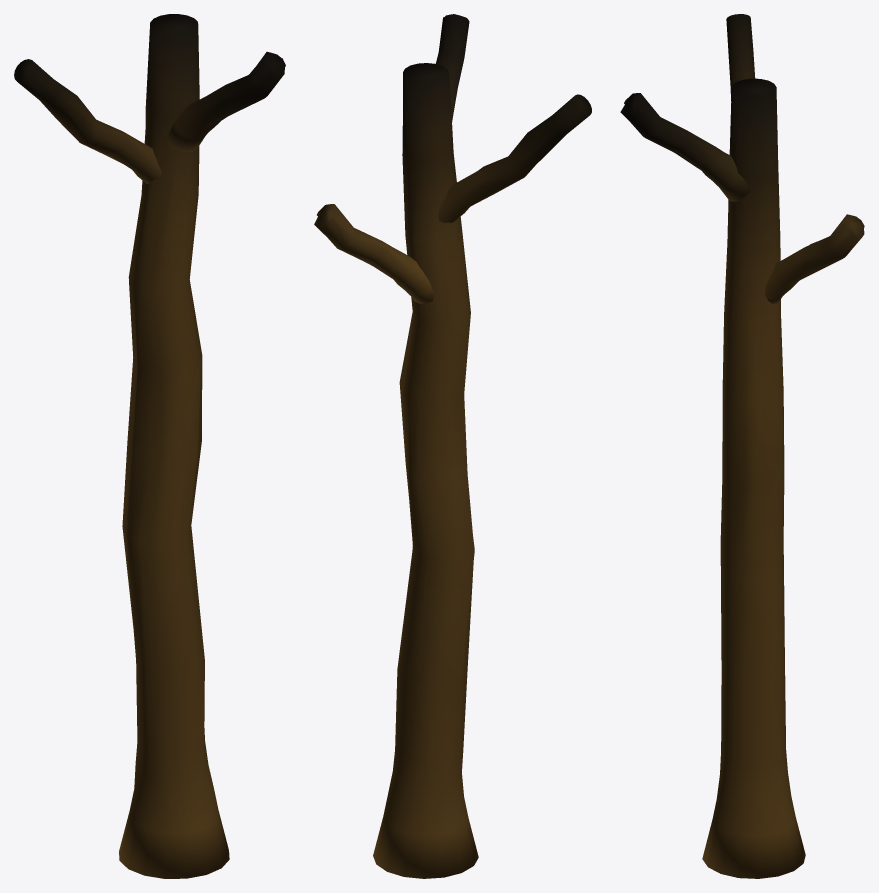
Rendered from pohon gosong_3.fbx.
The picture shows the model from 3 angles, left to right: view 1: azimuth 30°, elevation 25°; view 2: azimuth 150°, elevation 25°; view 3: azimuth 270°, elevation 25°; orthographic projection. The views are drawn at different scales.
Visible parts, largest first — view 1: Cylinder.005; view 2: Cylinder.005; view 3: Cylinder.005.
Boxes of the visible parts, x1,y1,x2,y2 form: Cylinder.005: [14, 14, 285, 878]; Cylinder.005: [314, 14, 591, 878]; Cylinder.005: [620, 14, 864, 878].
Bounding box in the file's own units: 1789 × 6276 × 1786.
1 material, 1 textured.
